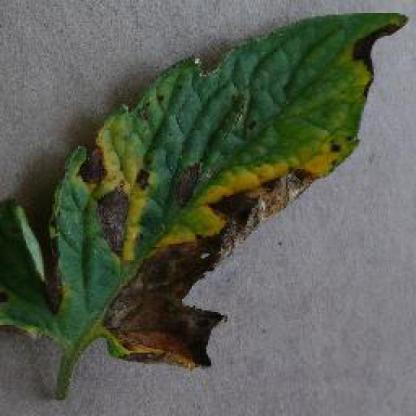Tomato_Blight: (0, 12, 407, 366)
